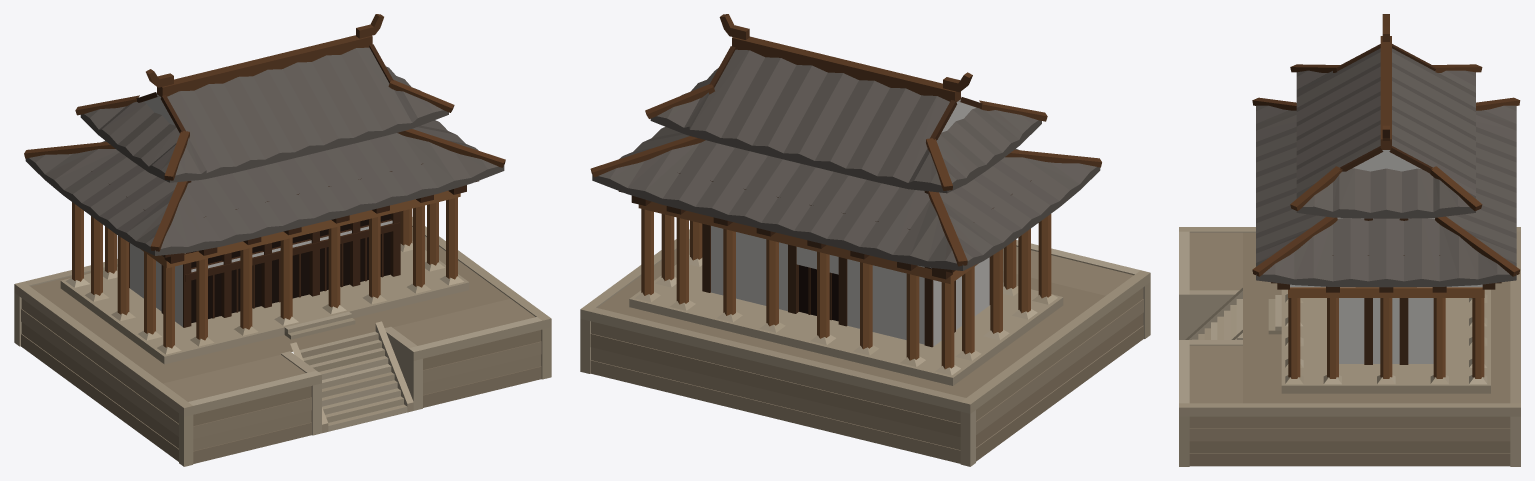
File: governor-s-audience-hall-a4d777.glb
3 views of the same model, side by side, from view 1: azimuth 30°, elevation 25°; view 2: azimuth 150°, elevation 25°; view 3: azimuth 270°, elevation 25° (orthographic). The views are drawn at different scales.
Parts seen in each view (by area): view 1: audience-hall-body; view 2: audience-hall-body; view 3: audience-hall-body.
Boxes of the visible parts, x1,y1,x2,y2 form: audience-hall-body: (14,14,551,466); audience-hall-body: (580,14,1150,466); audience-hall-body: (1179,14,1520,466).
Size of the model in its own units: 20 by 15.82 by 16.
